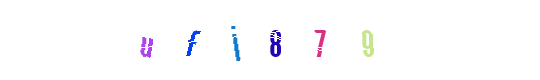7: (280, 0, 360, 80)
8: (235, 0, 315, 80)
9: (325, 0, 405, 80)
F: (171, 0, 251, 80)
J: (230, 0, 310, 80)
U: (144, 0, 224, 80)
